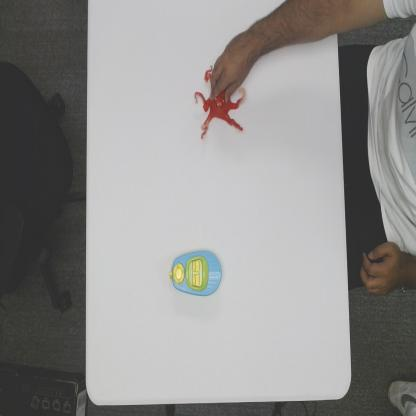Arm: (250, 1, 391, 64)
Boat: (168, 248, 223, 298)
Hand: (208, 25, 255, 102)
Octopus: (193, 65, 247, 141)
